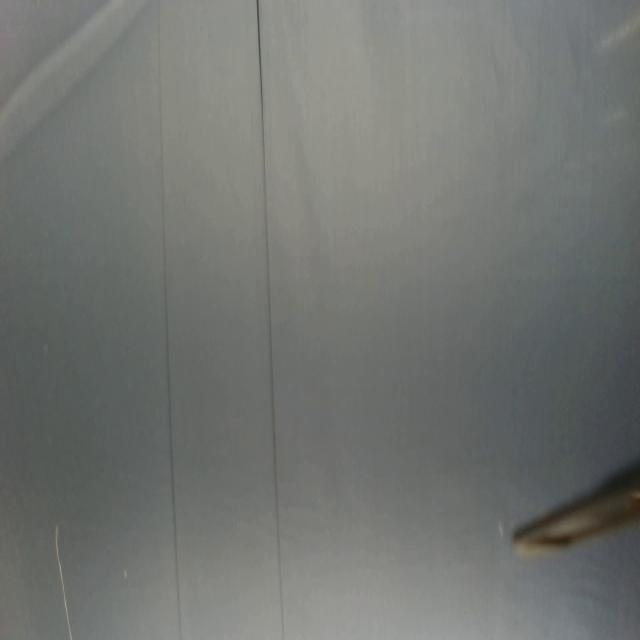crease: (0, 0, 146, 172), (255, 0, 286, 640), (156, 0, 184, 636)
hole: (497, 521, 504, 541)
